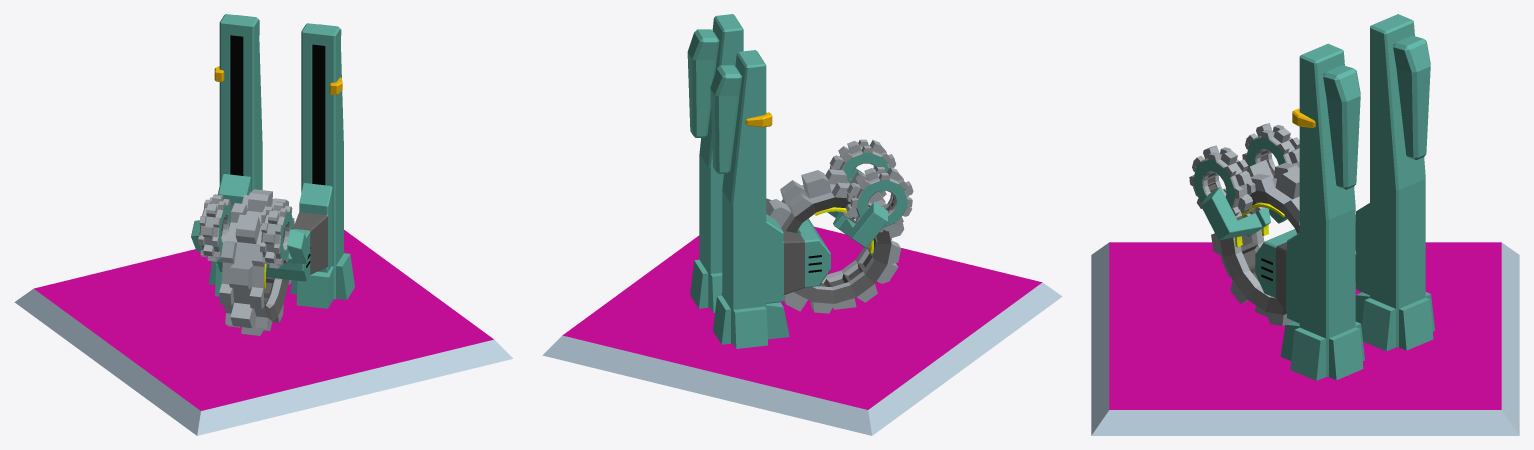
Rendered from 86_Haarvester_KEK4.fbx.
The picture shows the model from 3 angles, left to right: view 1: azimuth 30°, elevation 25°; view 2: azimuth 150°, elevation 25°; view 3: azimuth 270°, elevation 25°; orthographic projection. The views are drawn at different scales.
Visible parts, largest first — view 1: foundation4, base, big_rockdrill, elevator, pPipe30 (×2), pCube156; view 2: foundation4, base, big_rockdrill, pPipe30 (×2), elevator, pCube157, pCube158, pCube156; view 3: foundation4, base, big_rockdrill, pPipe30 (×2), elevator, pCube157, pCube158, pCube156.
Part boxes in pixels (x1,y1,x2,y2): foundation4: [14, 230, 513, 435]; base: [208, 14, 354, 308]; big_rockdrill: [219, 189, 294, 335]; elevator: [216, 174, 332, 281]; pPipe30 (×2): [198, 194, 294, 268]; pCube156: [266, 229, 309, 267]; foundation4: [542, 226, 1062, 435]; base: [690, 14, 789, 348]; big_rockdrill: [766, 169, 904, 313]; pPipe30 (×2): [829, 139, 913, 232]; elevator: [766, 198, 830, 303]; pCube157: [710, 65, 741, 173]; pCube158: [687, 29, 719, 137]; pCube156: [833, 202, 887, 247]; foundation4: [1091, 242, 1519, 435]; base: [1280, 14, 1434, 380]; big_rockdrill: [1211, 160, 1356, 325]; pPipe30 (×2): [1189, 123, 1299, 219]; elevator: [1255, 203, 1369, 323]; pCube157: [1393, 35, 1430, 159]; pCube158: [1323, 65, 1360, 189]; pCube156: [1201, 187, 1270, 240].
Bounding box in the file's own units: 2 × 1.7 × 2.
